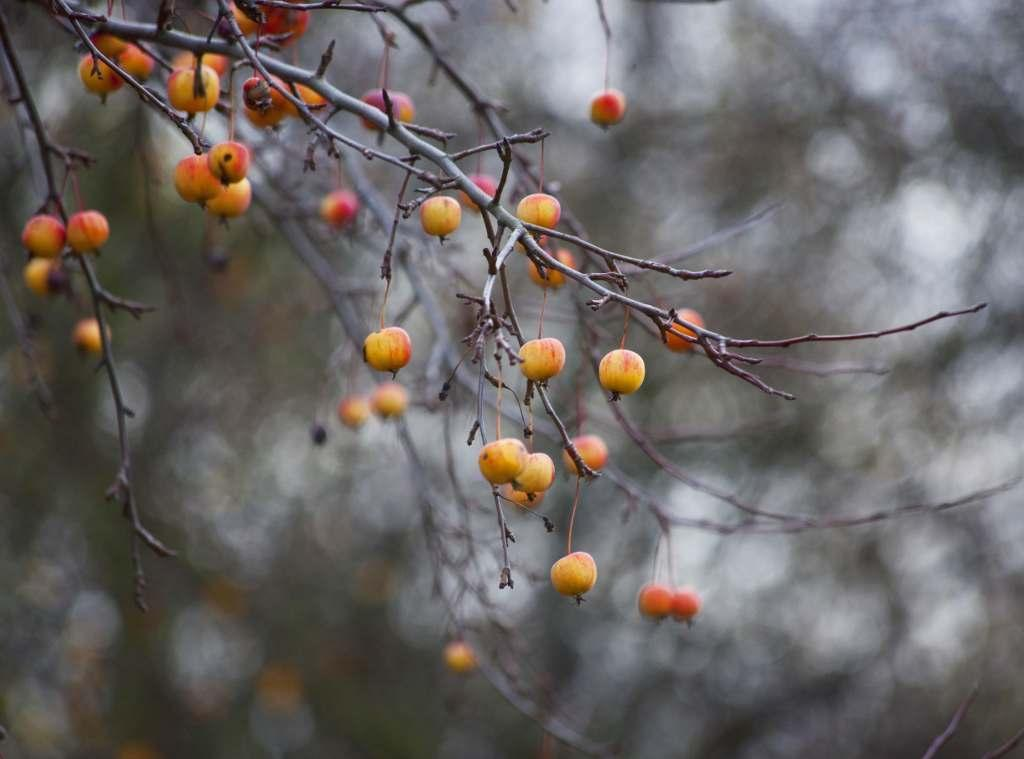apple: (474, 434, 528, 489), (548, 549, 599, 599), (169, 66, 217, 113), (596, 348, 644, 395), (172, 155, 221, 200), (362, 326, 411, 371), (204, 138, 248, 187), (20, 213, 65, 257), (418, 194, 463, 238), (77, 53, 125, 94), (519, 337, 563, 377), (515, 192, 561, 229), (210, 176, 252, 213), (519, 453, 556, 494)
